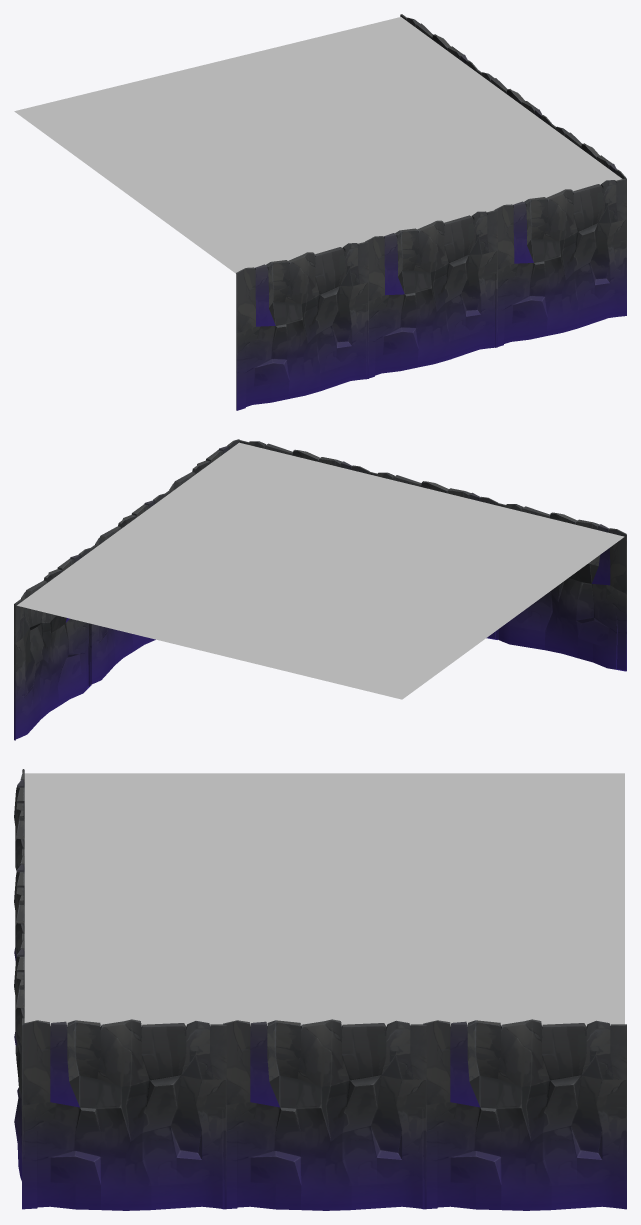
File: Floor_All.FBX
The picture shows the model from 3 angles, top to bottom: view 1: azimuth 30°, elevation 25°; view 2: azimuth 150°, elevation 25°; view 3: azimuth 270°, elevation 25°; orthographic projection. The views are drawn at different scales.
Visible parts, largest first — view 1: floor, Floor_All; view 2: floor, Floor_All; view 3: floor, Floor_All.
Boxes of the visible parts, <box> form: floor: <box>14,17,621,273</box>; Floor_All: <box>236,14,626,410</box>; floor: <box>17,442,624,699</box>; Floor_All: <box>14,439,626,740</box>; floor: <box>24,773,624,1026</box>; Floor_All: <box>14,769,626,1210</box>.
Size of the model in its own units: 1206 by 411 by 1206.
